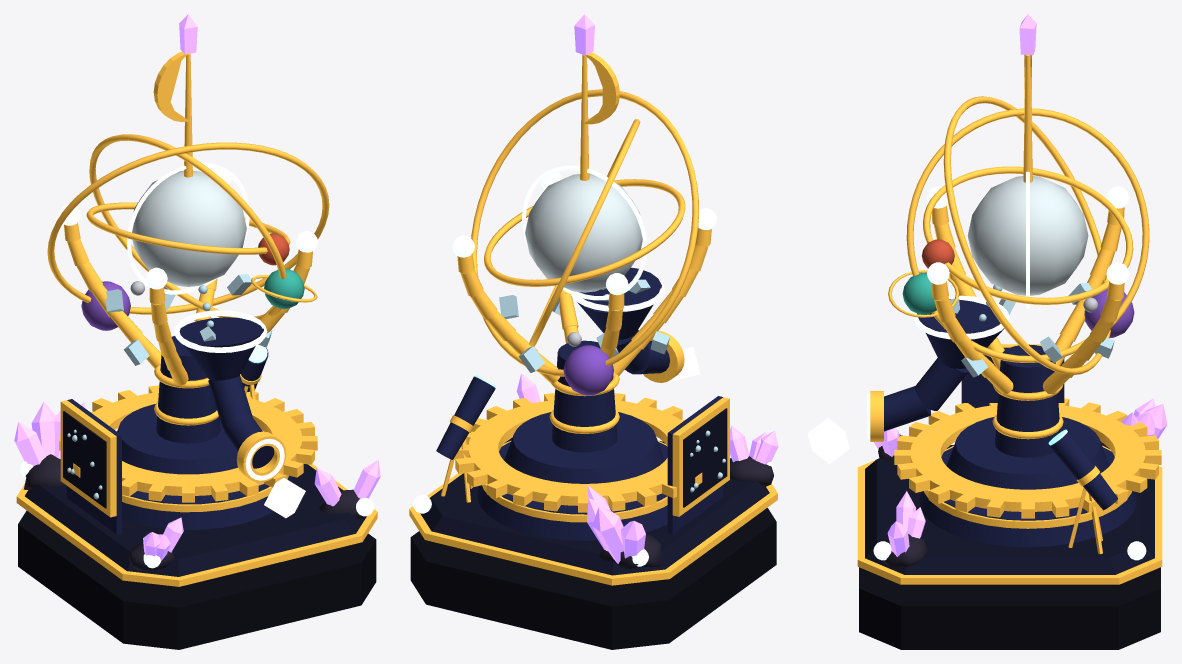
Rendered from AstralOrreryMine_Roblox.fbx.
The picture shows the model from 3 angles, left to right: view 1: azimuth 30°, elevation 25°; view 2: azimuth 150°, elevation 25°; view 3: azimuth 270°, elevation 25°; orthographic projection. The views are drawn at different scales.
Visible parts, largest first — view 1: Gold, Black, NightMetal, StarMarble, StarCore, Neon, Crystal, MeteorRock, RuneGlow, PlanetTeal, PlanetPurple, StardustOre (+1 smaller); view 2: Gold, Black, NightMetal, StarMarble, StarCore, Crystal, Neon, PlanetPurple, RuneGlow, MeteorRock; view 3: Gold, NightMetal, Black, StarMarble, StarCore, Neon, Crystal, RuneGlow, StardustOre, PlanetTeal, MeteorRock, PlanetPurple (+1 smaller).
Part boxes in pixels (x1,y1,x2,y2): Gold: [16, 51, 377, 586]; Black: [18, 510, 376, 649]; NightMetal: [67, 317, 292, 534]; StarMarble: [25, 411, 366, 576]; StarCore: [132, 170, 246, 286]; Neon: [20, 162, 374, 568]; Crystal: [14, 14, 380, 561]; MeteorRock: [23, 454, 366, 570]; RuneGlow: [67, 274, 272, 499]; PlanetTeal: [264, 268, 304, 309]; PlanetPurple: [81, 281, 130, 330]; StardustOre: [264, 477, 305, 518]; Gold: [409, 52, 777, 585]; Black: [410, 508, 776, 649]; NightMetal: [436, 267, 723, 540]; StarMarble: [420, 408, 769, 575]; StarCore: [525, 174, 642, 292]; Crystal: [516, 14, 778, 563]; Neon: [413, 165, 774, 566]; PlanetPurple: [563, 345, 613, 395]; RuneGlow: [499, 279, 725, 492]; MeteorRock: [599, 456, 773, 569]; Gold: [857, 54, 1162, 584]; NightMetal: [884, 299, 1136, 547]; Black: [859, 567, 1160, 649]; StarMarble: [865, 445, 1154, 574]; StarCore: [967, 176, 1088, 295]; Neon: [867, 171, 1146, 560]; Crystal: [874, 14, 1167, 556]; RuneGlow: [949, 283, 1114, 377]; StardustOre: [807, 418, 849, 464]; PlanetTeal: [902, 273, 936, 314]; MeteorRock: [878, 434, 1109, 567]; PlanetPurple: [1084, 289, 1134, 338].
Bounding box in the file's own units: 1008 × 2090 × 1192.
